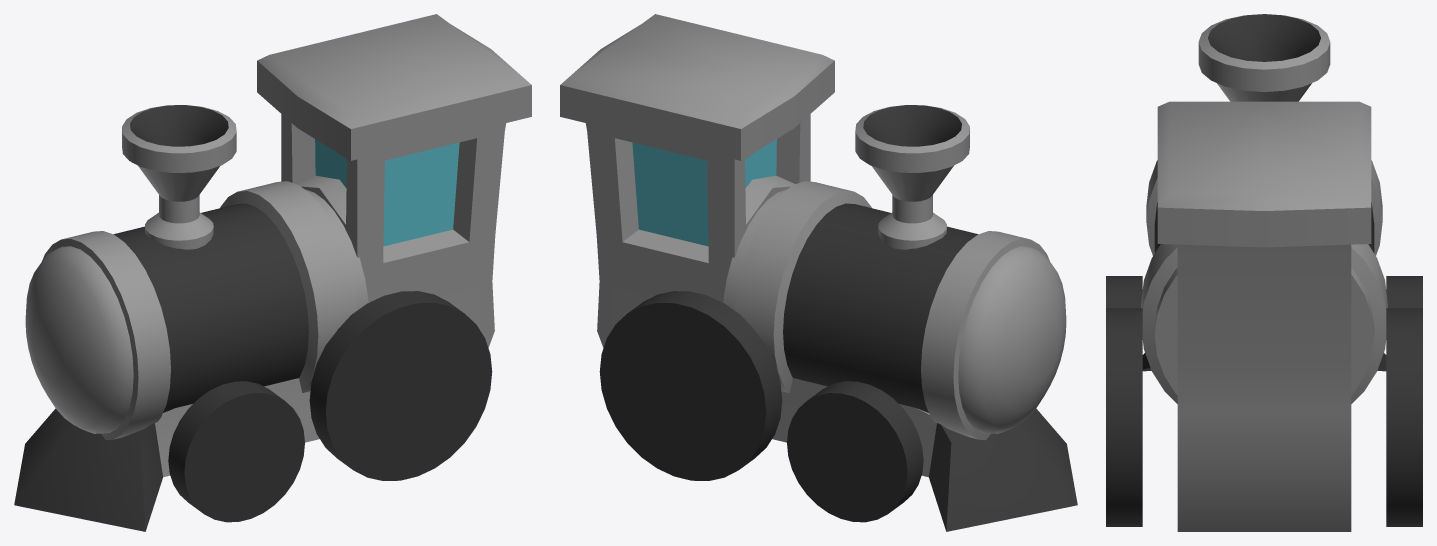
Rendered from Train.FBX.
The picture shows the model from 3 angles, left to right: view 1: azimuth 30°, elevation 25°; view 2: azimuth 150°, elevation 25°; view 3: azimuth 270°, elevation 25°; orthographic projection. The views are drawn at different scales.
Visible parts, largest first — view 1: Carriage, Engine, Wheel02, Wheel04, Exhaust; view 2: Carriage, Engine, Wheel01, Wheel03, Exhaust; view 3: Carriage, Engine, Exhaust, Wheel02, Wheel01, Wheel04, Wheel03.
Boxes of the visible parts, x1=… form: Carriage: x1=14, y1=14, x2=531, y2=531; Engine: x1=25, y1=181, x2=368, y2=440; Wheel02: x1=309, y1=291, x2=492, y2=480; Wheel04: x1=168, y1=381, x2=304, y2=522; Exhaust: x1=122, y1=105, x2=236, y2=249; Carriage: x1=560, y1=14, x2=1077, y2=531; Engine: x1=723, y1=181, x2=1066, y2=440; Wheel01: x1=599, y1=291, x2=782, y2=480; Wheel03: x1=787, y1=381, x2=923, y2=522; Exhaust: x1=855, y1=105, x2=969, y2=249; Carriage: x1=1142, y1=101, x2=1386, y2=531; Engine: x1=1141, y1=160, x2=1387, y2=403; Exhaust: x1=1198, y1=14, x2=1330, y2=101; Wheel02: x1=1106, y1=308, x2=1142, y2=526; Wheel01: x1=1386, y1=308, x2=1422, y2=526; Wheel04: x1=1106, y1=276, x2=1142, y2=308; Wheel03: x1=1386, y1=276, x2=1422, y2=308.
Bounding box in the file's own units: 95.89 × 67.47 × 48.32.
